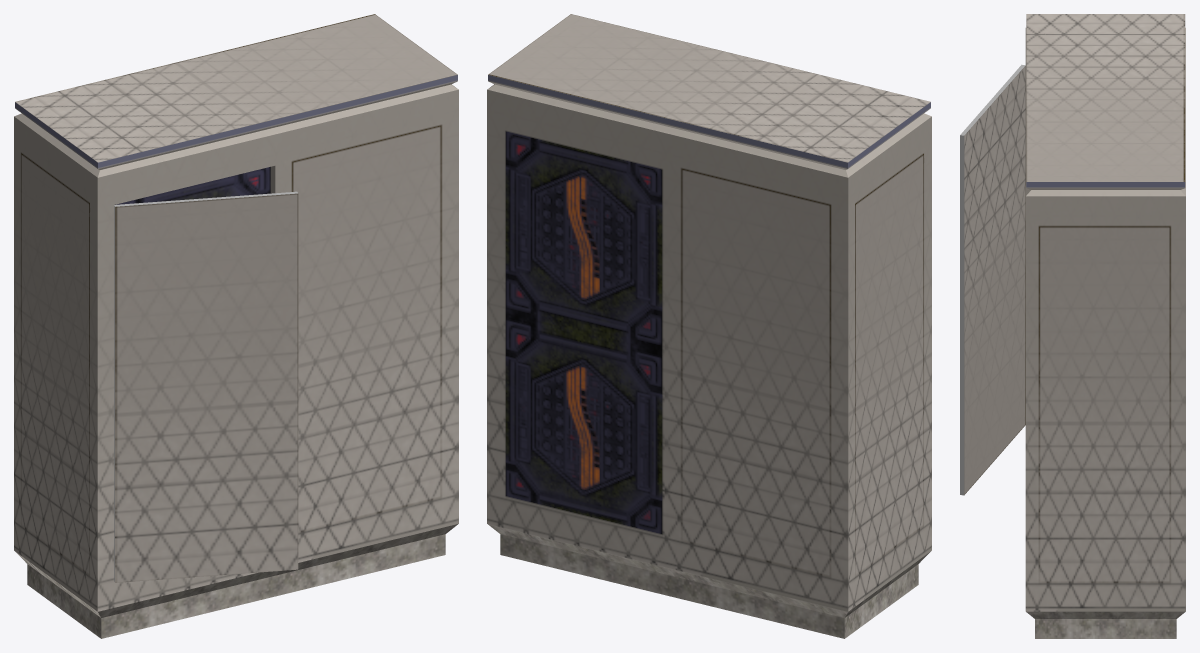
3 renders of one model, left to right at view 1: azimuth 30°, elevation 25°; view 2: azimuth 150°, elevation 25°; view 3: azimuth 270°, elevation 25°, orthographic. The views are drawn at different scales.
Parts seen in each view (by area): view 1: ElectricBox01_Art, ElecticBox01_Door_Art; view 2: ElectricBox01_Art; view 3: ElectricBox01_Art, ElecticBox01_Door_Art.
Boxes of the visible parts, bbox=[...] form: ElectricBox01_Art: bbox=[14, 14, 458, 638]; ElecticBox01_Door_Art: bbox=[114, 191, 298, 582]; ElectricBox01_Art: bbox=[487, 14, 931, 638]; ElectricBox01_Art: bbox=[1025, 14, 1185, 638]; ElecticBox01_Door_Art: bbox=[960, 64, 1025, 495].
Size of the model in its own units: 1.99 by 2.54 by 1.13.
Materials: 1 (1 with a texture image).
